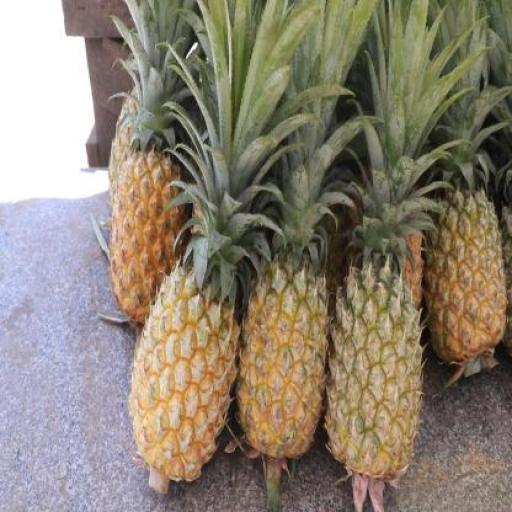------------------------------: (325, 269, 422, 472)
Pineapple - v8 v1: (126, 272, 233, 484), (236, 263, 329, 458), (114, 140, 188, 328), (428, 194, 505, 360)
